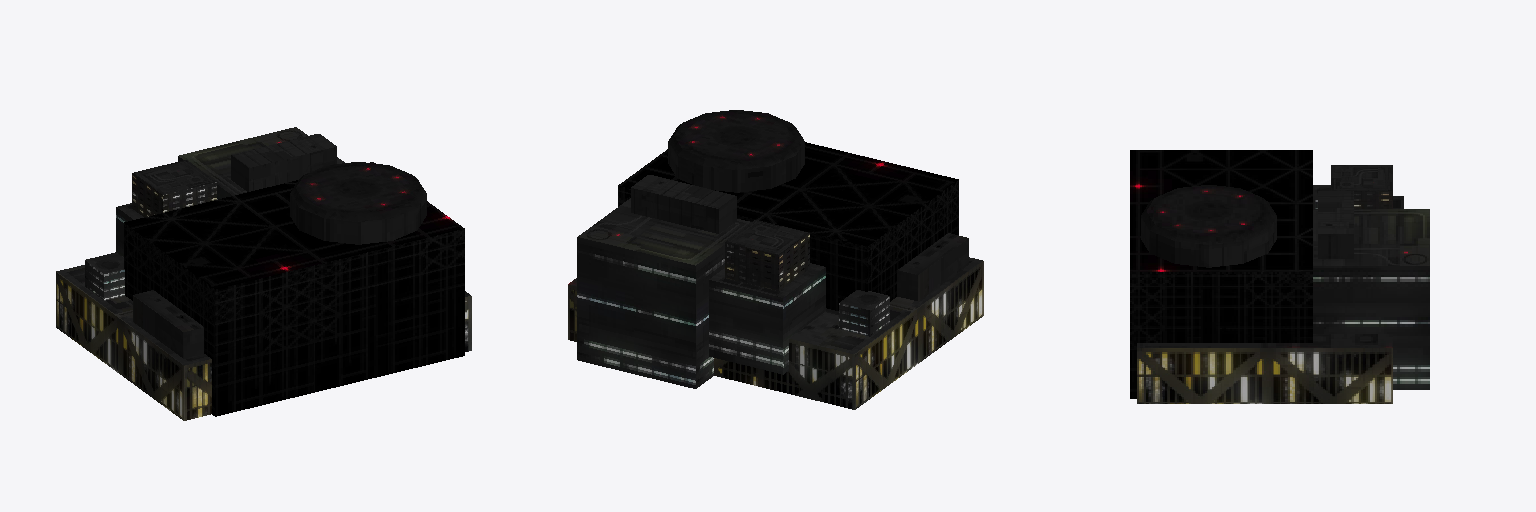
The picture shows the model from 3 angles: view 1: azimuth 30°, elevation 25°; view 2: azimuth 150°, elevation 25°; view 3: azimuth 270°, elevation 25°; orthographic projection.
Parts seen in each view (by area): view 1: building_42; view 2: building_42; view 3: building_42.
Part boxes in pixels (bbox=[...]): building_42: bbox=[56, 127, 471, 420]; building_42: bbox=[568, 110, 983, 409]; building_42: bbox=[1130, 150, 1429, 403].
Size of the model in its own units: 94.79 by 48.87 by 85.82.
Materials: 1 (1 with a texture image).